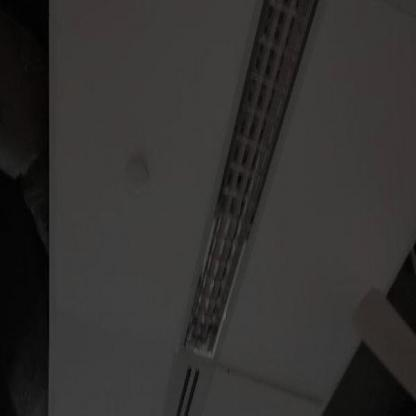light_off: (159, 4, 331, 363)
